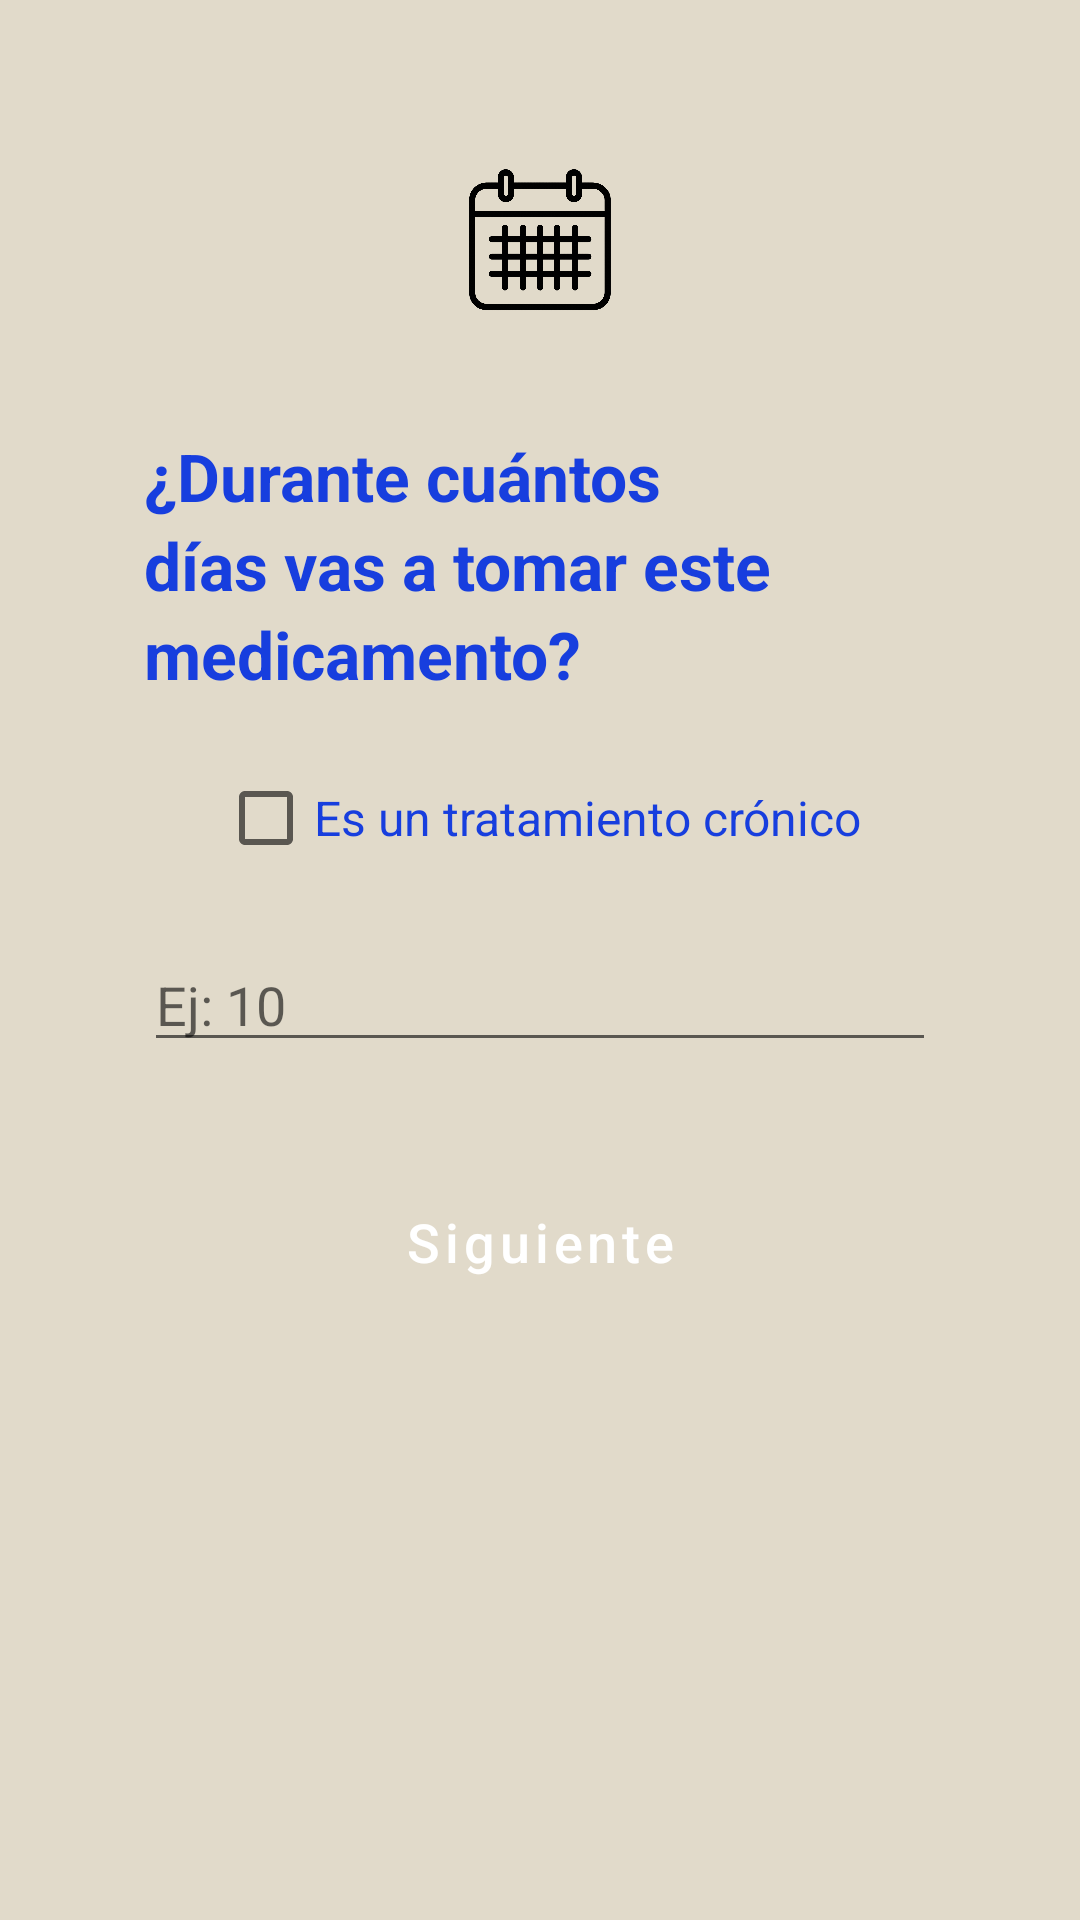

Named icons in this screenshot (1080w x 1920h) and their bounding boxes, (x1, y1, x2, y2):
Icono calendario: (469, 169, 611, 310)
